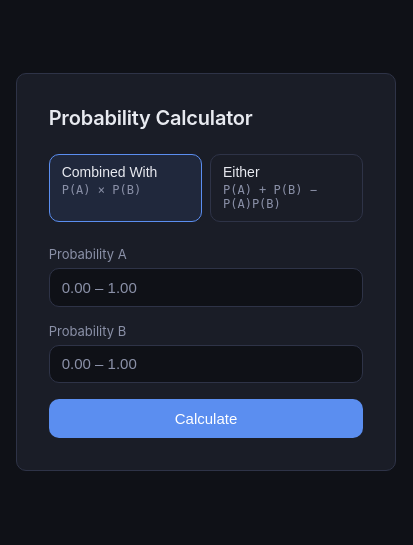
Scenario: App › calculates combined-with result
This screenshot has width=413, height=545.
Type "0.5" into the number field labelled "Probability A" at x=206, y=287, box [49, 268, 363, 306]
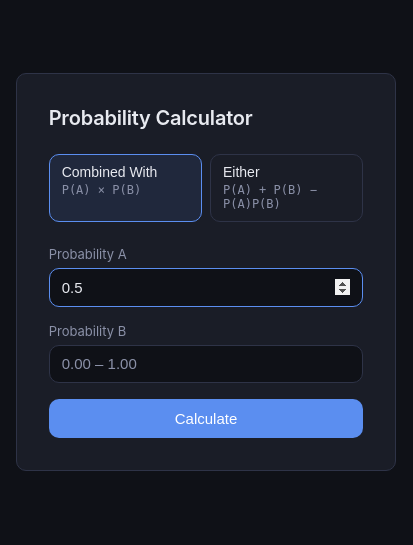
Type "0.6" into the number field labelled "Probability B" at x=206, y=364, box [49, 345, 363, 383]
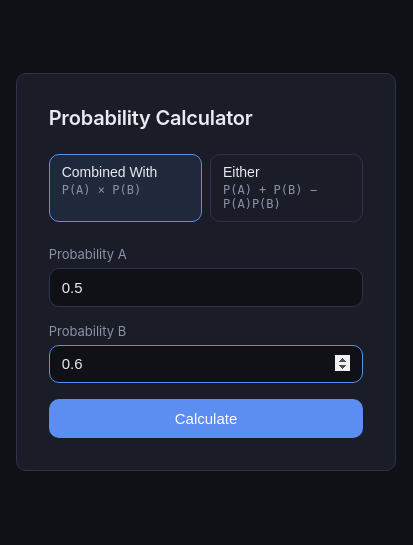
Click the button "Calculate" at x=206, y=419, box [49, 399, 363, 438]
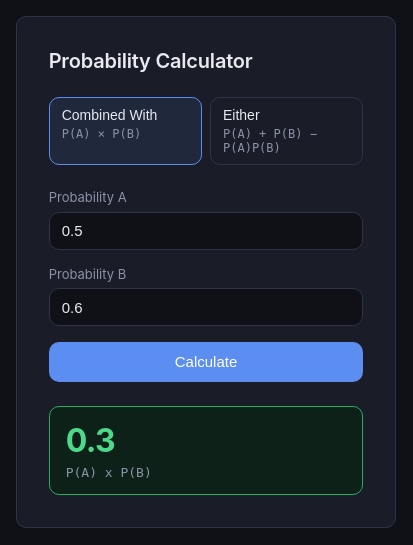
Result: the text "0.3" is shown at [66, 421, 115, 460]
